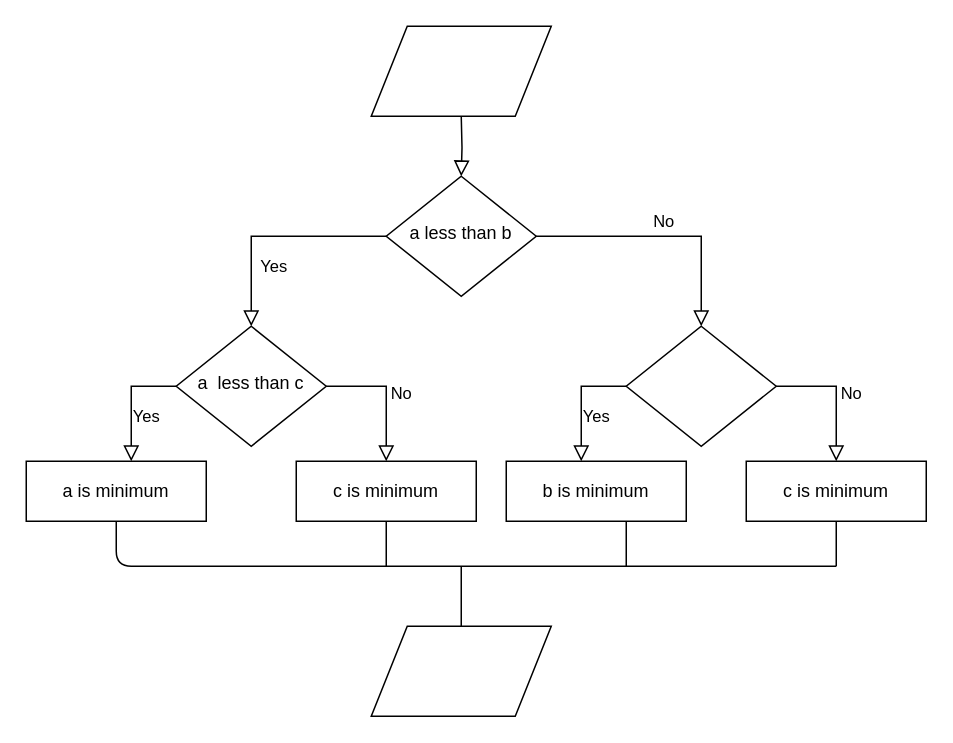
Image size: 953x743. Some labels were removed from this diagram. Here are the shapes that lost their labels. From the top down, the centre of each, then its label:
At point (460, 70): "Enter a, b, c".
At point (700, 385): "b less then c".
At point (460, 670): "min value".
